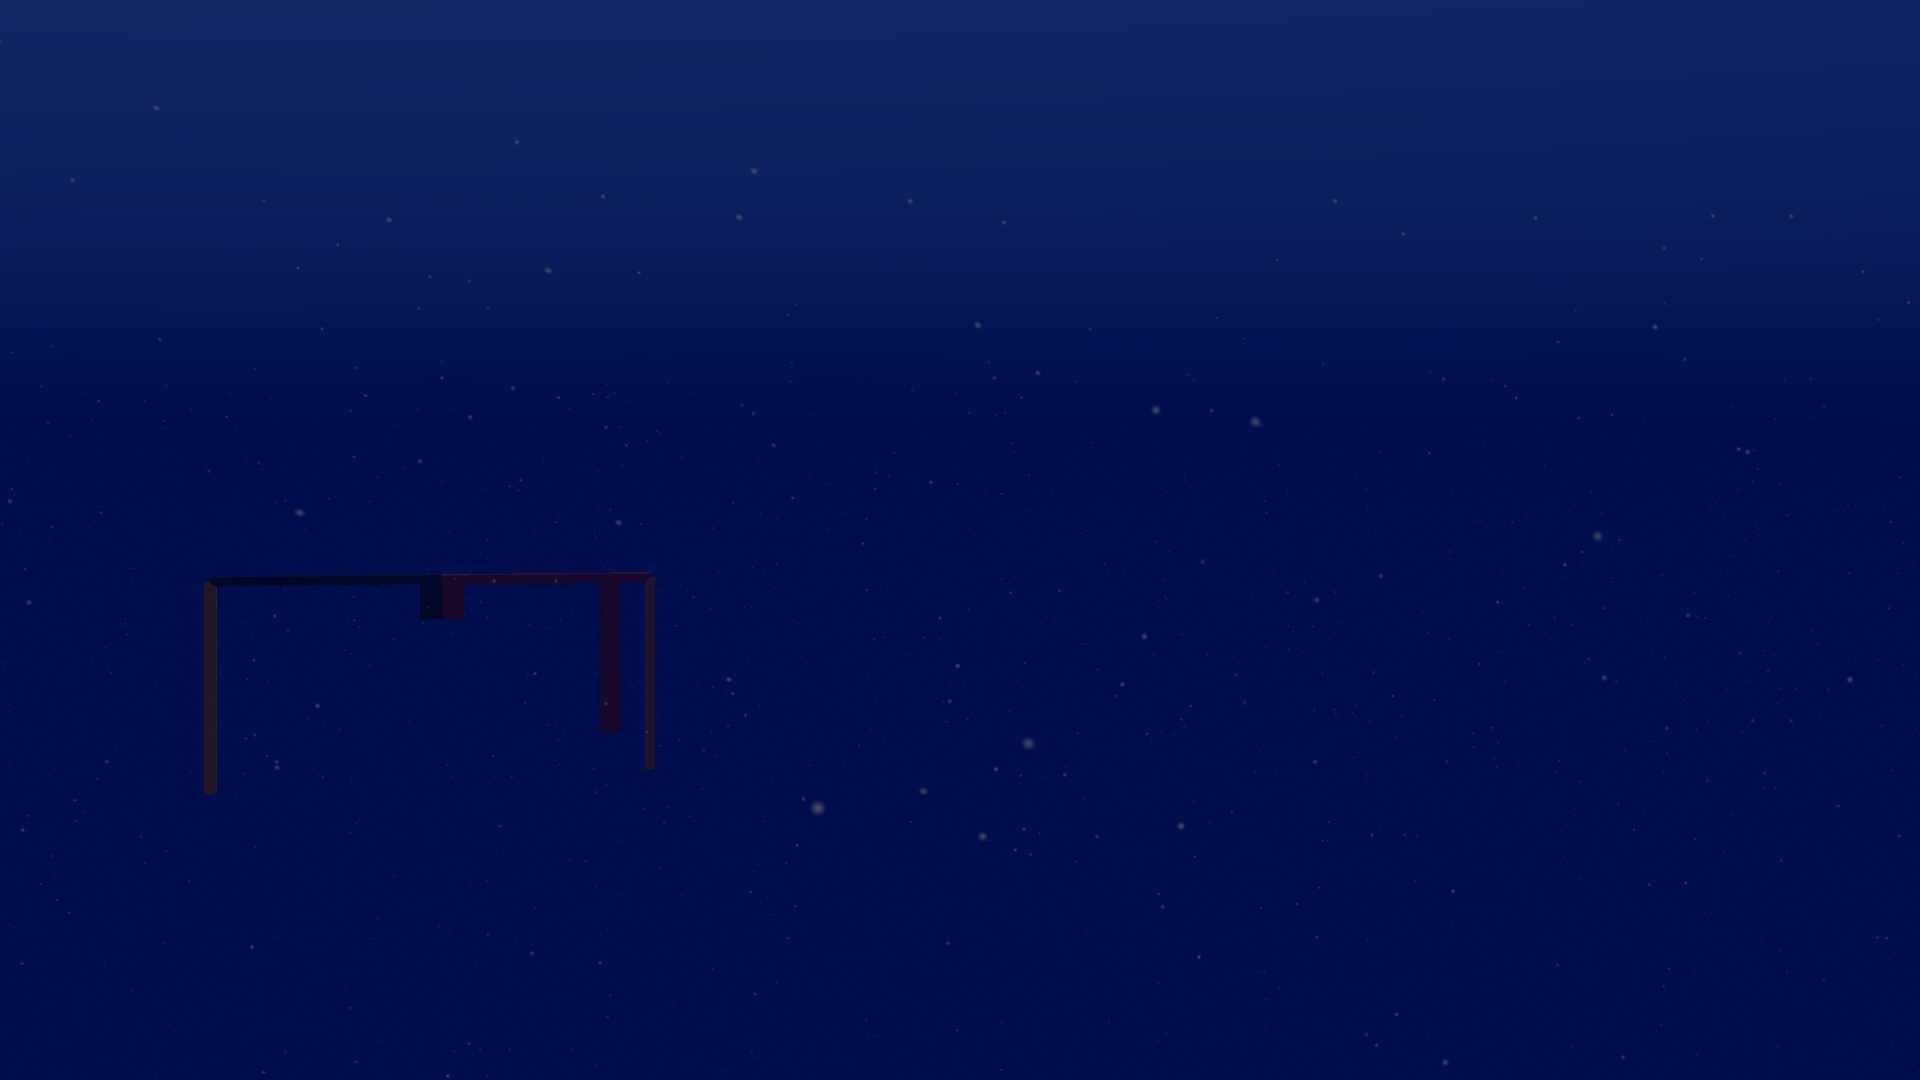Gate: (191, 563, 673, 807)
